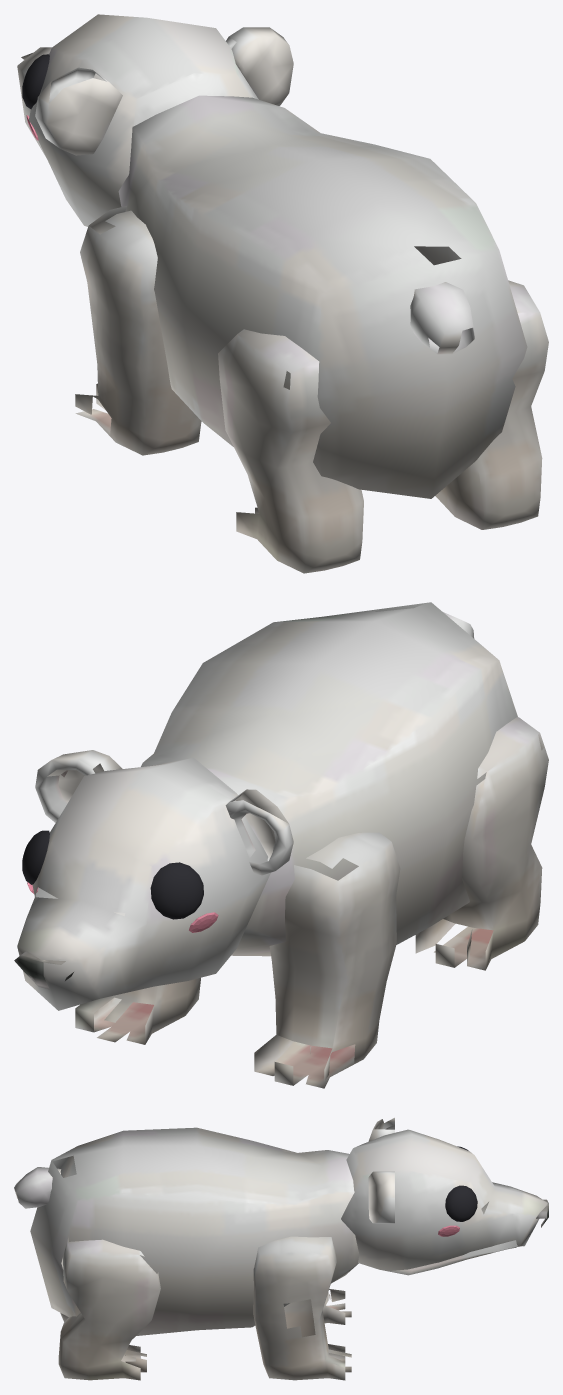
File: Polarbear1_NEW.fbx
3 renders of one model, top to bottom at view 1: azimuth 30°, elevation 25°; view 2: azimuth 150°, elevation 25°; view 3: azimuth 270°, elevation 25°, orthographic. The views are drawn at different scales.
Parts seen in each view (by area): view 1: Polarbear1_NEW.001, Polarbear1_NEW_Eyes; view 2: Polarbear1_NEW.001, Polarbear1_NEW_Eyes; view 3: Polarbear1_NEW.001, Polarbear1_NEW_Eyes.
Boxes of the visible parts, x1,y1,x2,y2 form: Polarbear1_NEW.001: (17, 14, 548, 573); Polarbear1_NEW_Eyes: (22, 54, 49, 109); Polarbear1_NEW.001: (14, 602, 548, 1088); Polarbear1_NEW_Eyes: (22, 830, 203, 919); Polarbear1_NEW.001: (14, 1117, 548, 1380); Polarbear1_NEW_Eyes: (445, 1146, 477, 1221).
Bounding box in the file's own units: 333 × 372 × 870.
3 materials, 1 textured.
